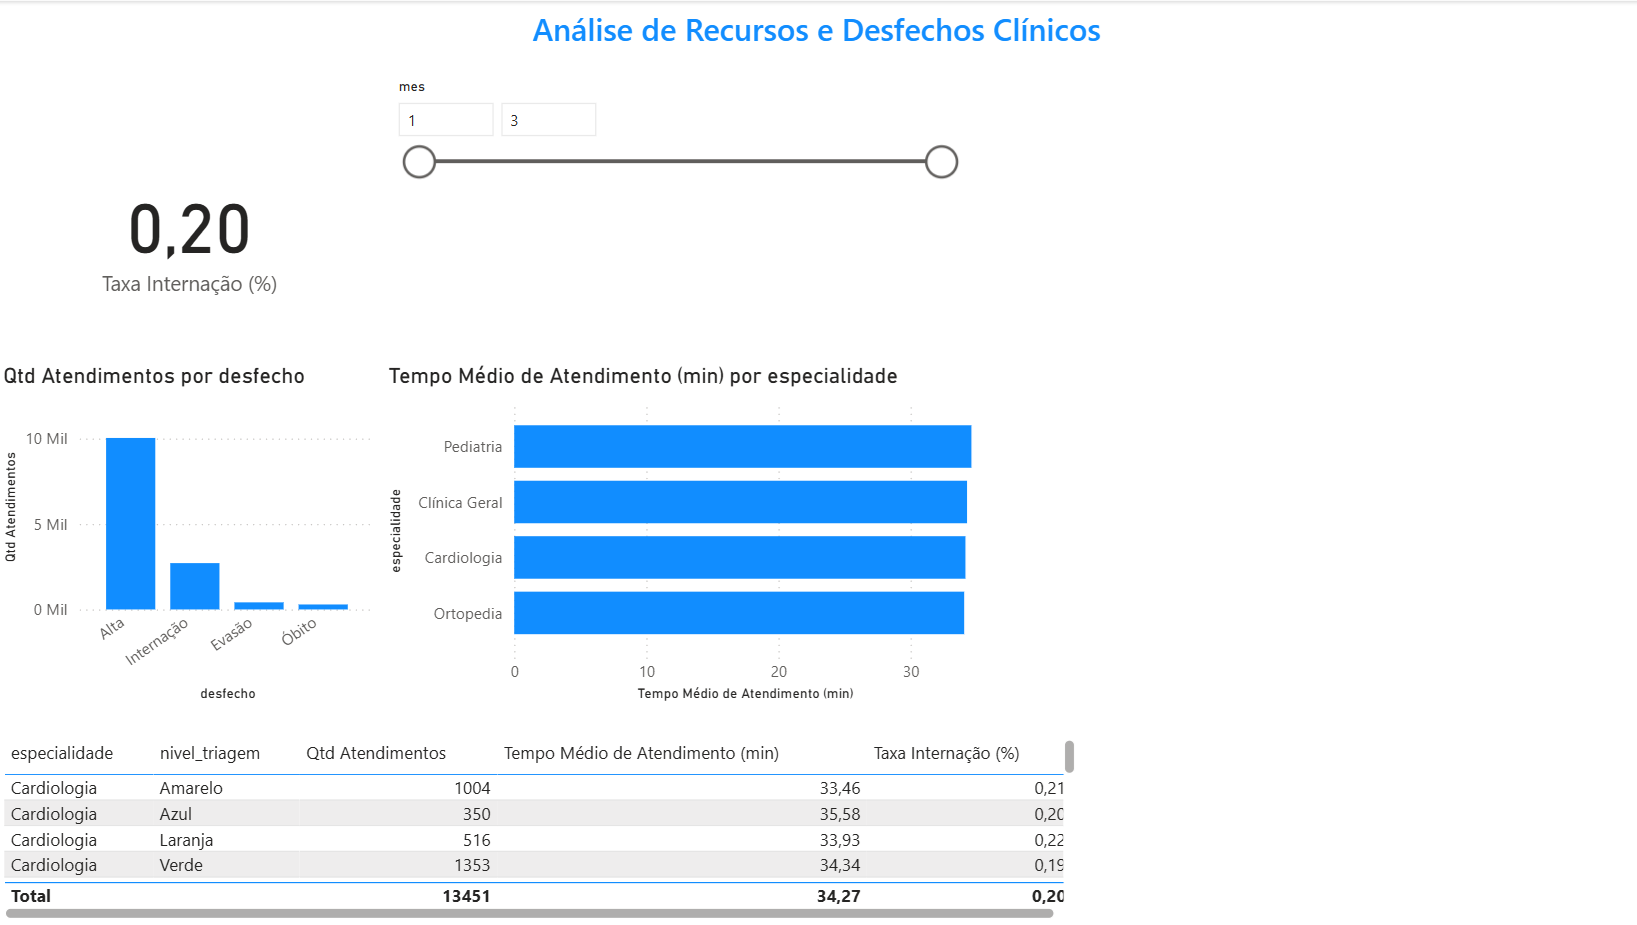

The page's visual inventory and layout, read from the dashboard file:
{"tool":"powerbi","page":{"name":"Recursos e Desfechos","canvas":[1280,720],"ordinal":2},"visuals":[{"type":"textbox","box":[411.7,0,456.5,81.3],"z":0},{"type":"columnChart","fields":{"Category":["atendimentos_urgencia_simulado.desfecho"],"Y":["atendimentos_urgencia_simulado.Qtd Atendimentos"]},"box":[0,281.2,299.9,268.8],"z":1000},{"type":"card","fields":{"Values":["atendimentos_urgencia_simulado.Taxa Internação (%)"]},"box":[0,81,299.9,200.2],"z":1001},{"type":"barChart","fields":{"Category":["atendimentos_urgencia_simulado.especialidade"],"Y":["atendimentos_urgencia_simulado.Tempo Médio de Atendimento (min)"]},"box":[299.9,281.2,475.2,268.8],"z":1002},{"type":"slicer","fields":{"Values":["atendimentos_urgencia_simulado.mes"]},"box":[299.9,55.3,456.5,126.2],"z":1003},{"type":"tableEx","fields":{"Values":["atendimentos_urgencia_simulado.especialidade","atendimentos_urgencia_simulado.nivel_triagem","atendimentos_urgencia_simulado.Qtd Atendimentos","atendimentos_urgencia_simulado.Tempo Médio de Atendimento (min)","atendimentos_urgencia_simulado.Taxa Internação (%)"]},"box":[0,570.3,844.5,149.6],"z":1004}]}

Visuals, with their boxes in screenshot pixels (x1, y1, x2, y2), scaled from the page's 1280x720 canvas onto the 1637x925 screenshot:
textbox: [left=527, top=0, right=1110, bottom=104]
columnChart - atendimentos_urgencia_simulado.desfecho x atendimentos_urgencia_simulado.Qtd Atendimentos: [left=0, top=361, right=384, bottom=707]
card - atendimentos_urgencia_simulado.Taxa Internação (%): [left=0, top=104, right=384, bottom=361]
barChart - atendimentos_urgencia_simulado.especialidade x atendimentos_urgencia_simulado.Tempo Médio de Atendimento (min): [left=384, top=361, right=991, bottom=707]
slicer - atendimentos_urgencia_simulado.mes: [left=384, top=71, right=967, bottom=233]
tableEx - atendimentos_urgencia_simulado.especialidade x atendimentos_urgencia_simulado.nivel_triagem: [left=0, top=733, right=1080, bottom=924]
